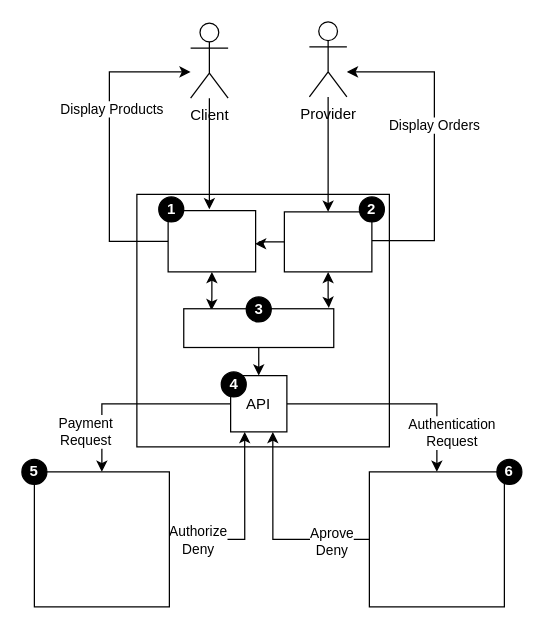
Some shapes in this 544 by 629 pixel diagram are drawn without their labels. The box of each missing label's shape, as (x1, y1, x2, y2) in pixels:
<<external>> Login/Registration: (368, 471, 504, 607)
<<external>> Payment: (33, 471, 169, 607)
Client Graphical Interface: (167, 209, 256, 272)
Offer Database: (182, 308, 334, 348)
Provider Graphical Interface: (283, 211, 372, 272)
